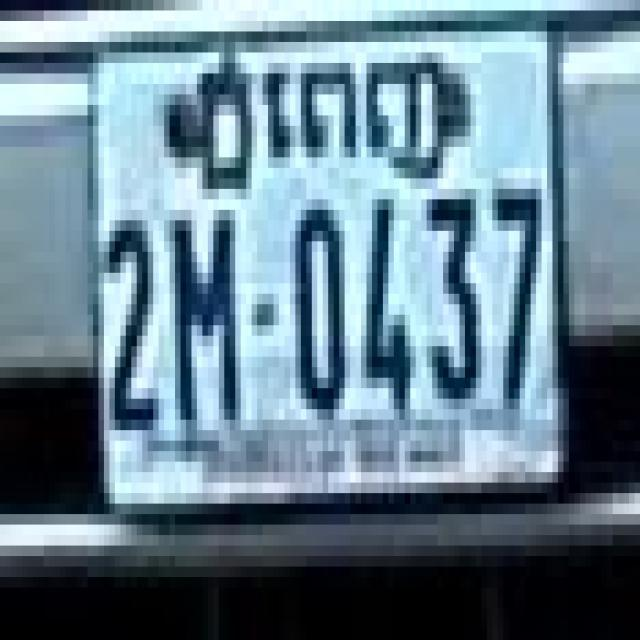Phnom_Penh: (181, 53, 448, 197)
